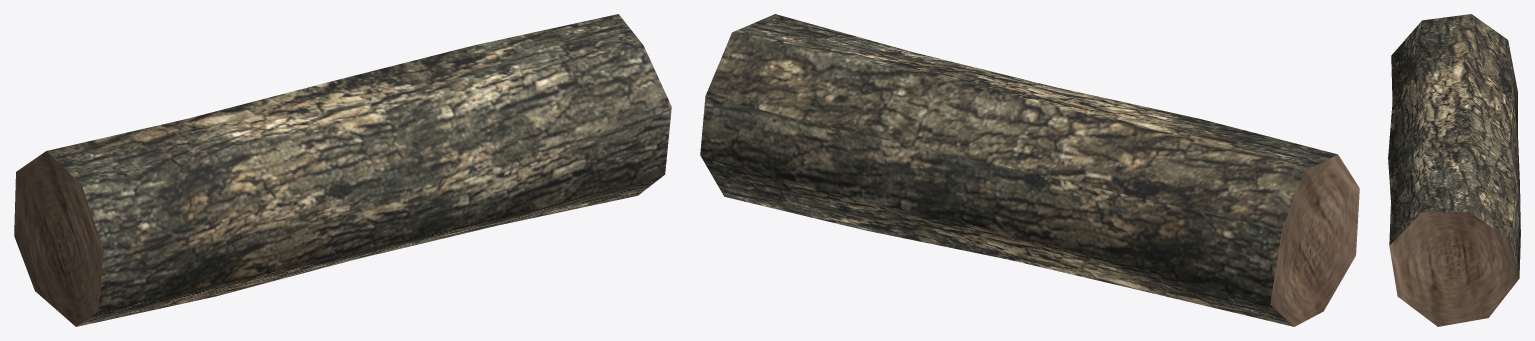
The model's file is prop_logs_3.glb.
3 views of the same model, side by side, from view 1: azimuth 30°, elevation 25°; view 2: azimuth 150°, elevation 25°; view 3: azimuth 270°, elevation 25° (orthographic). The views are drawn at different scales.
Parts seen in each view (by area): view 1: prop_logs_3_mesh; view 2: prop_logs_3_mesh; view 3: prop_logs_3_mesh.
Part boxes in pixels (x1=…): prop_logs_3_mesh: x1=14, y1=14, x2=671, y2=326; prop_logs_3_mesh: x1=700, y1=14, x2=1359, y2=326; prop_logs_3_mesh: x1=1388, y1=14, x2=1520, y2=326.
Size of the model in its own units: 1.52 by 0.4256 by 0.4311.
Materials: 1 (1 with a texture image).
